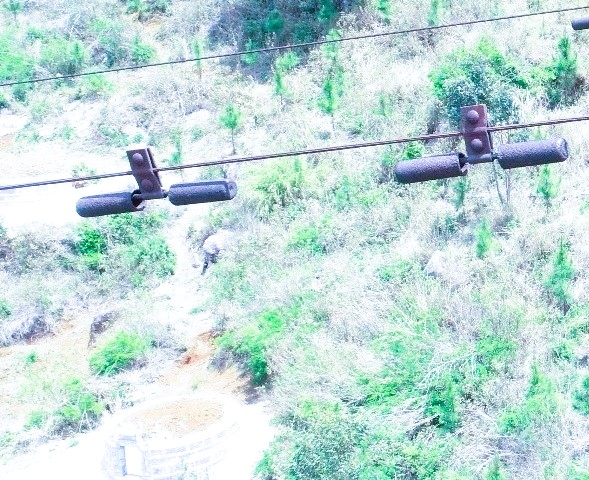Shockproof hammer: (382, 97, 572, 188), (69, 137, 246, 222)
